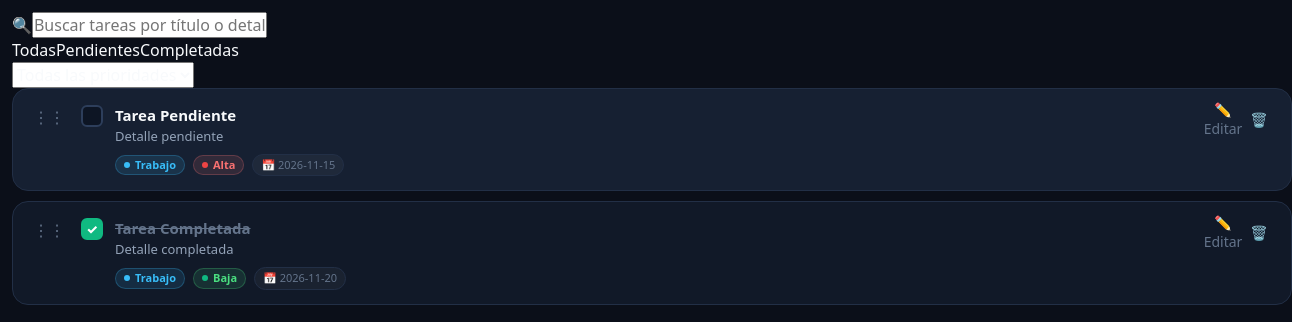
Test: <TodoList /> (Component Tests) › debe filtrar tareas según el texto ingresado en la búsqueda
The width and height of the screenshot is (1292, 322).
Step 1. Type "Pendiente" into the field with placeholder "Buscar tareas por título o detalle..." → (150, 25), box [32, 12, 267, 38]
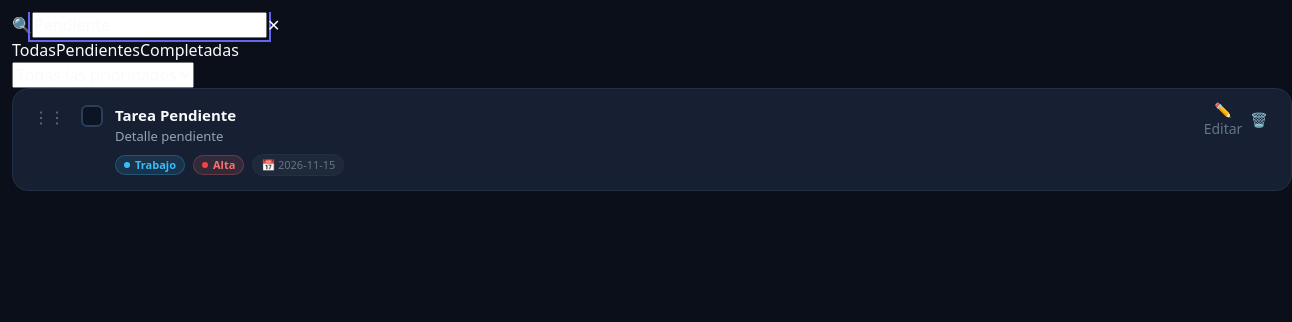
Expected: the checkbox "Tarea Pendiente" is shown, [115, 105, 236, 125]
Expected: the checkbox "Tarea Completada" is gone
